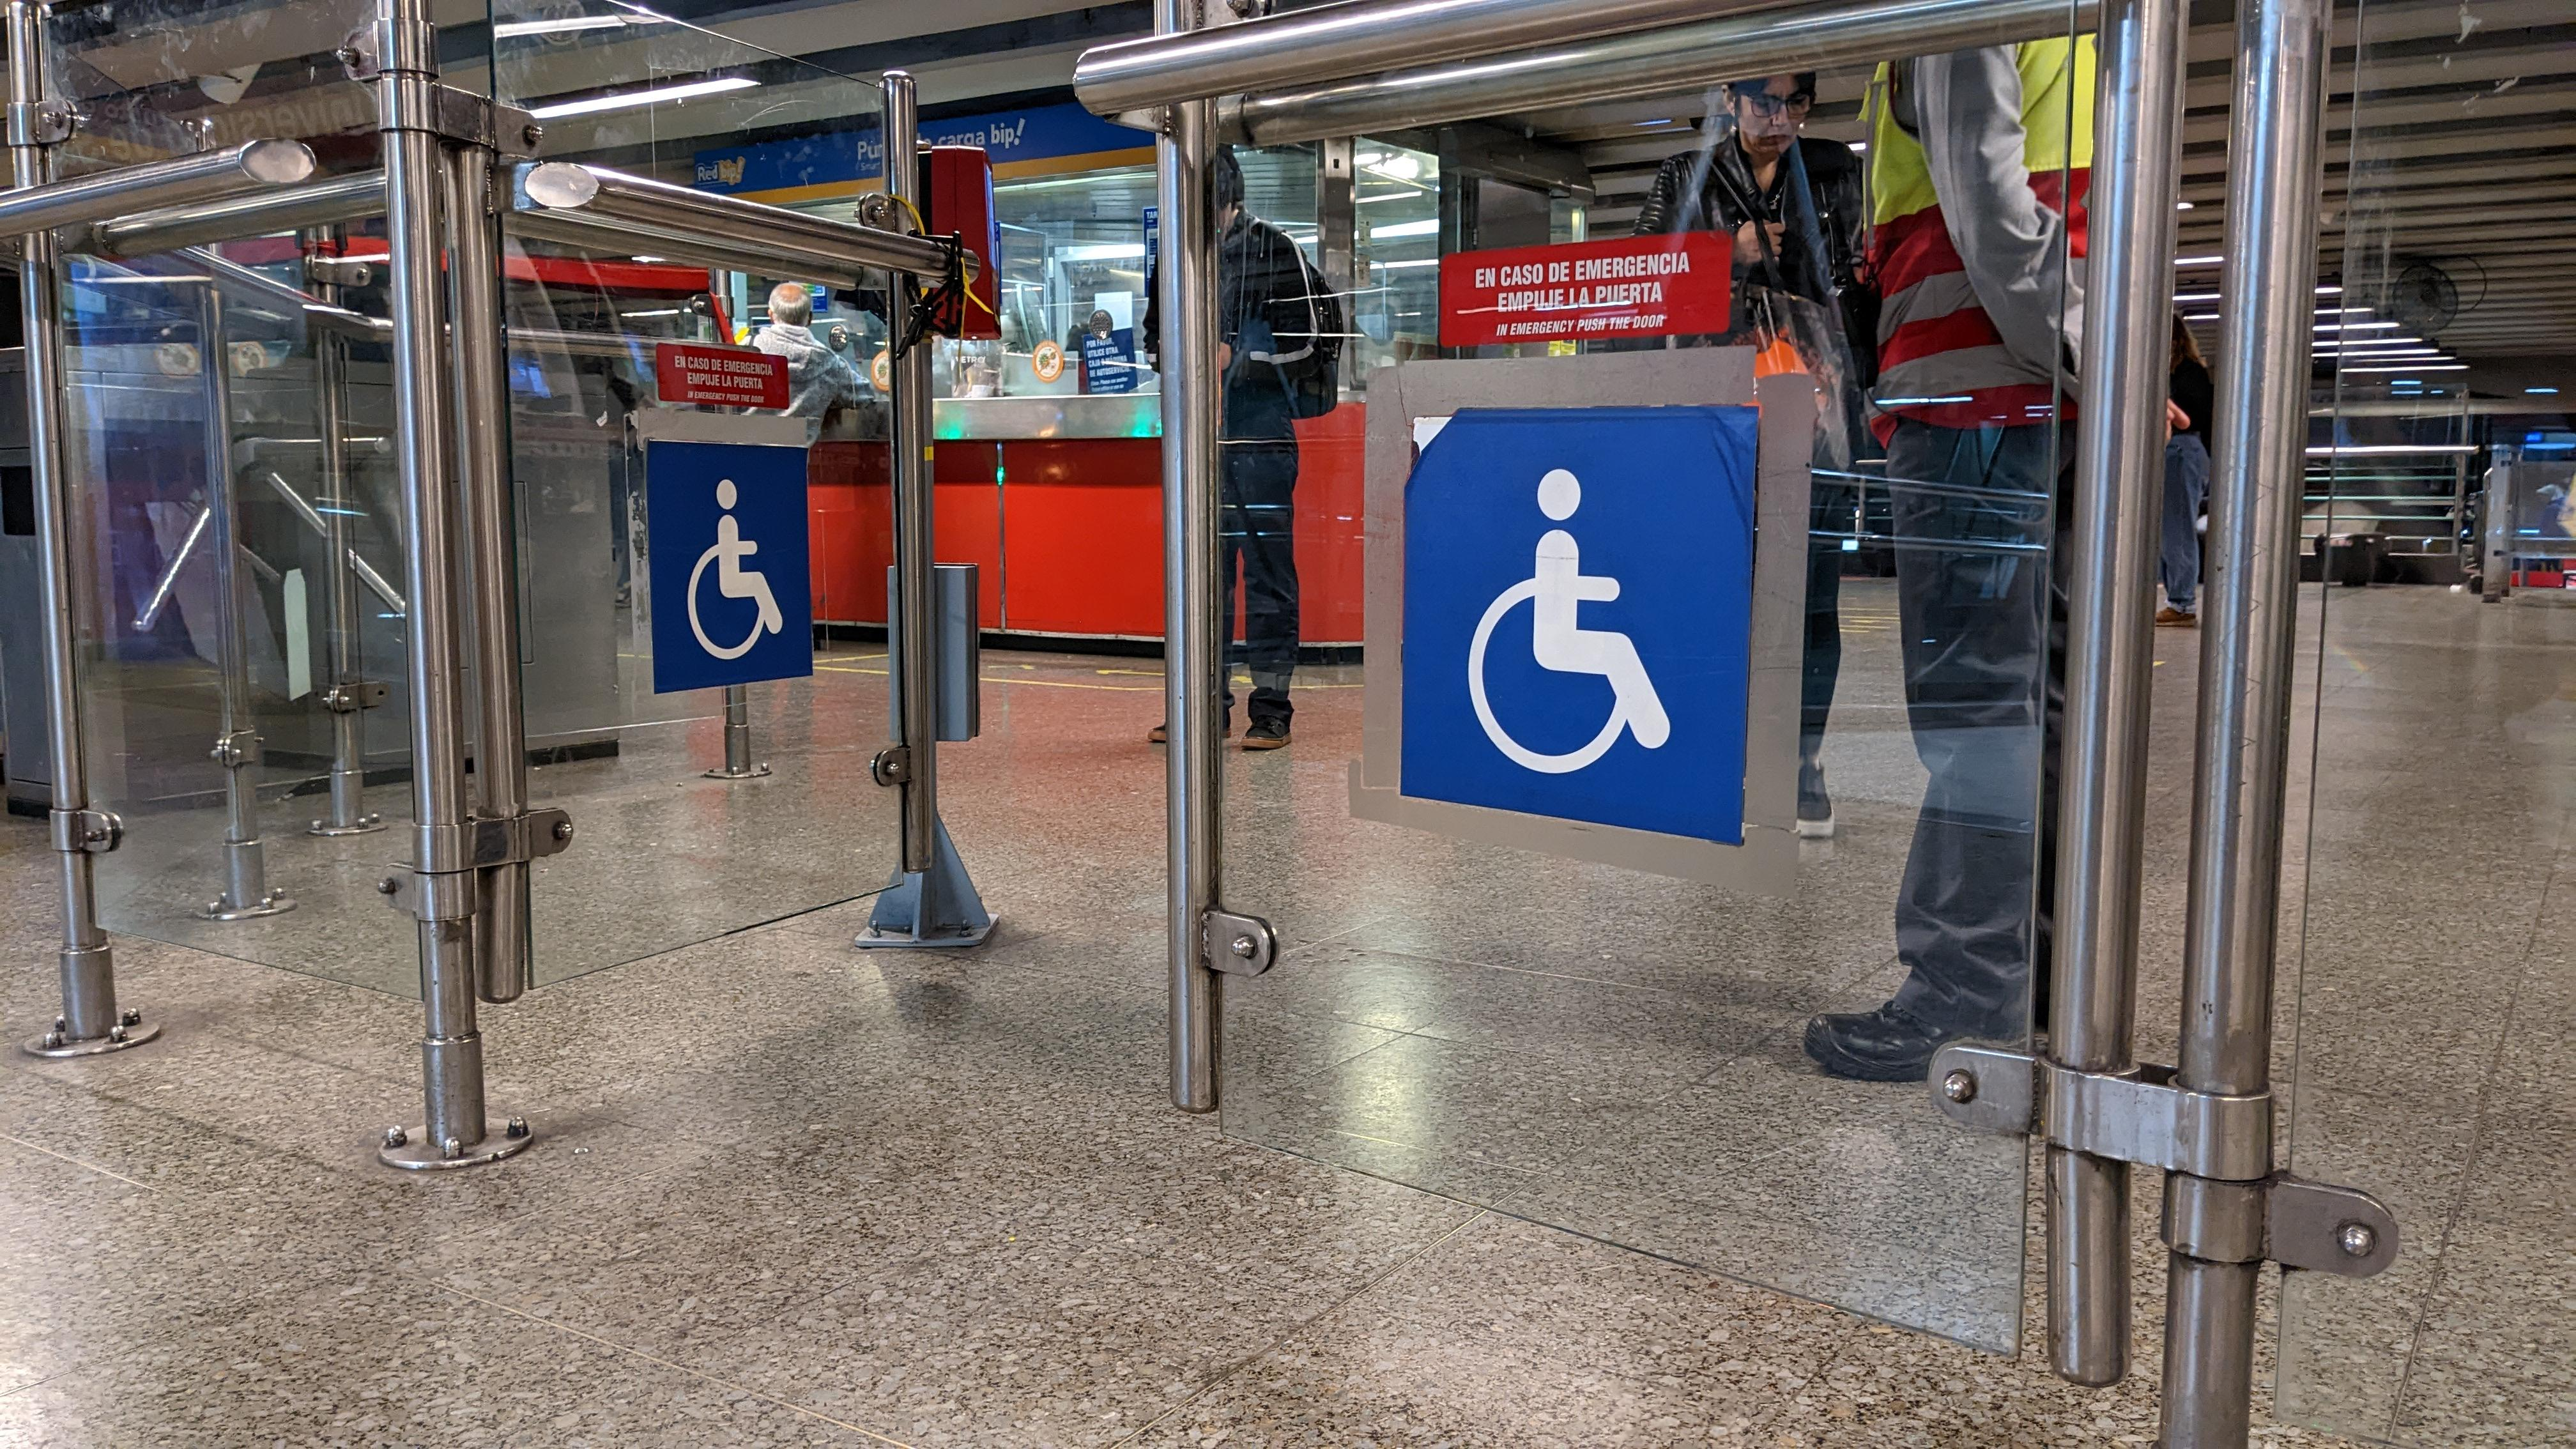handicapped symbol: (1458, 467, 1681, 780), (685, 469, 789, 667)
